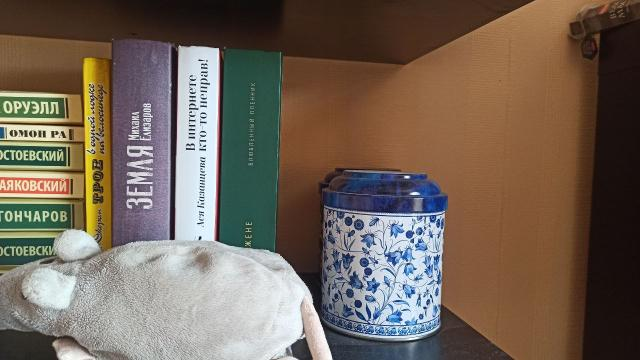book-s-spine: (217, 48, 282, 315), (112, 40, 171, 315), (172, 46, 219, 315), (83, 57, 111, 314), (0, 236, 83, 270), (0, 93, 83, 122), (0, 202, 83, 231), (0, 143, 84, 171), (0, 124, 84, 142)
